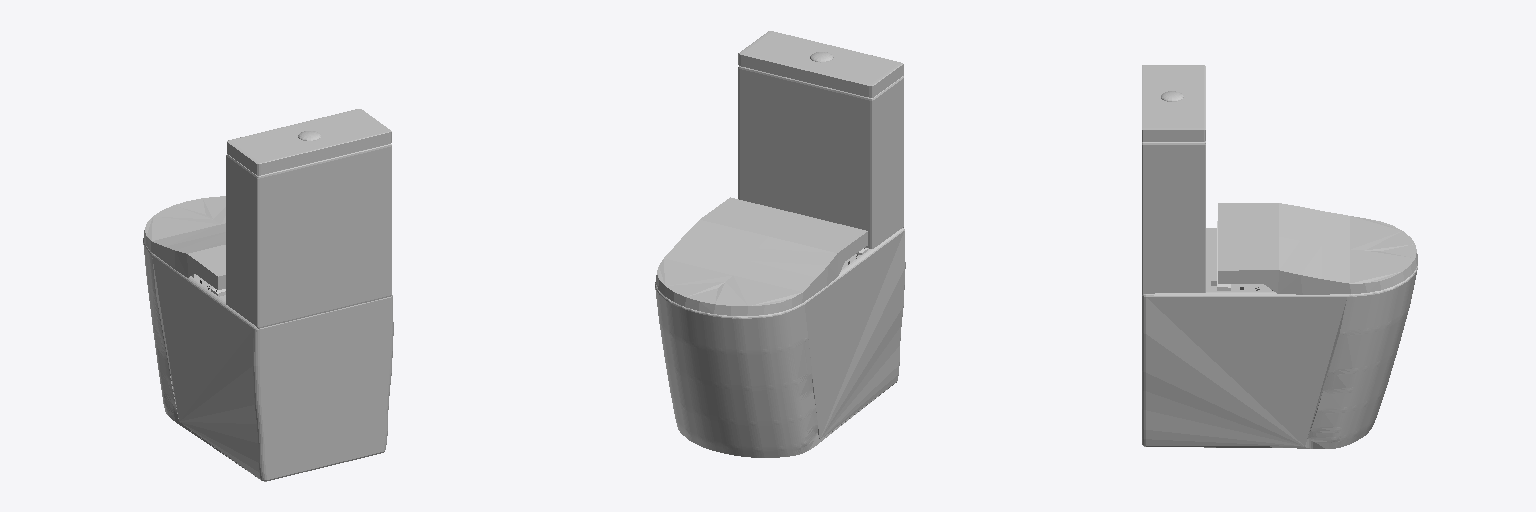
3 renders of one model, left to right at view 1: azimuth 30°, elevation 25°; view 2: azimuth 150°, elevation 25°; view 3: azimuth 270°, elevation 25°, orthographic.
Parts seen in each view (by area): view 1: Cube, Cube.003, Cube.004, Cylinder.001; view 2: Cube, Cube.003, Cylinder.001, Cube.004; view 3: Cube, Cylinder.001, Cube.003, Cube.004.
Boxes of the visible parts, <box> form: Cube: <box>143,238,393,481</box>; Cube.003: <box>226,144,391,328</box>; Cube.004: <box>227,109,391,175</box>; Cylinder.001: <box>144,196,225,289</box>; Cube: <box>655,228,905,457</box>; Cube.003: <box>738,66,903,248</box>; Cylinder.001: <box>656,197,867,315</box>; Cube.004: <box>738,31,903,97</box>; Cube: <box>1142,228,1417,448</box>; Cylinder.001: <box>1218,203,1417,294</box>; Cube.003: <box>1142,141,1205,294</box>; Cube.004: <box>1142,65,1205,141</box>.
Size of the model in its own units: 0.9605 by 2.11 by 1.64.
4 materials, 1 textured.